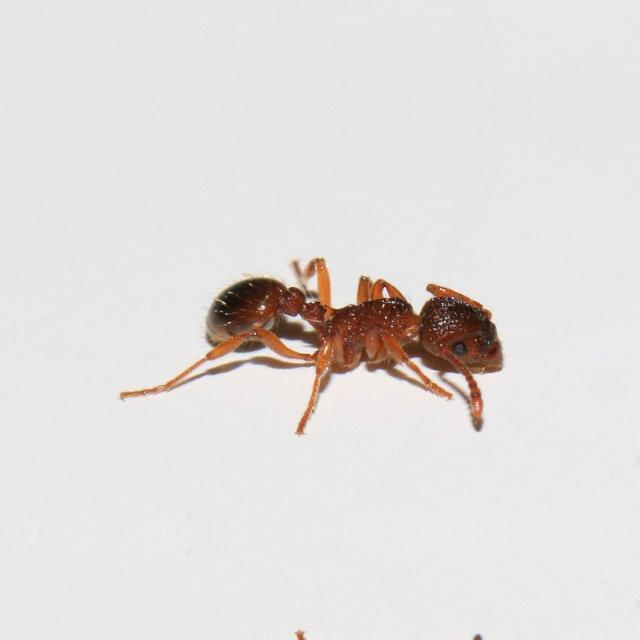Myrmica: (163, 213, 533, 423)
